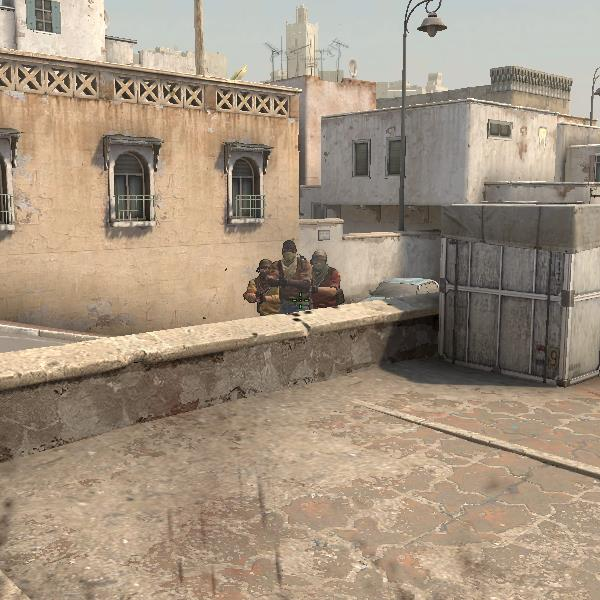t_body: (263, 233, 315, 311)
t_head: (274, 235, 304, 266)
